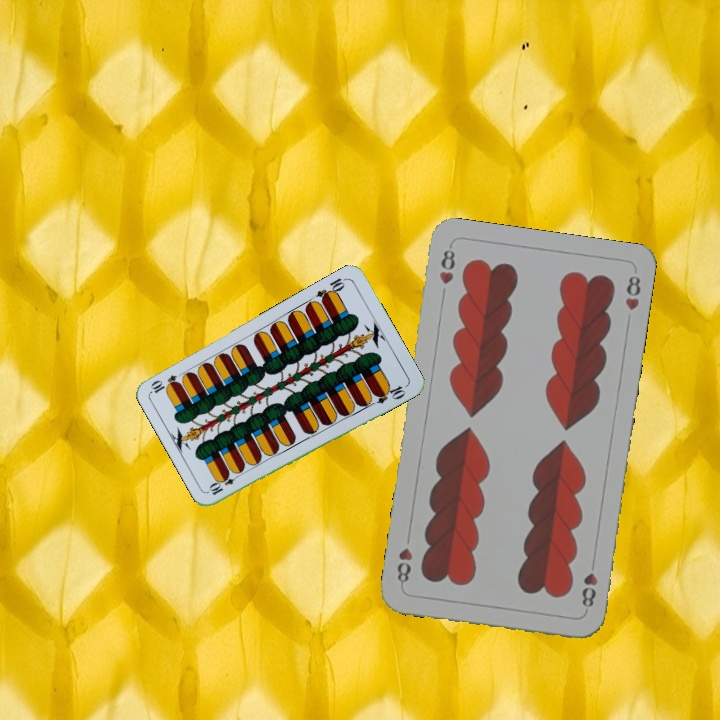E10: (312, 274, 349, 305), (205, 469, 243, 498)
H8: (577, 555, 600, 610), (435, 242, 458, 287)
